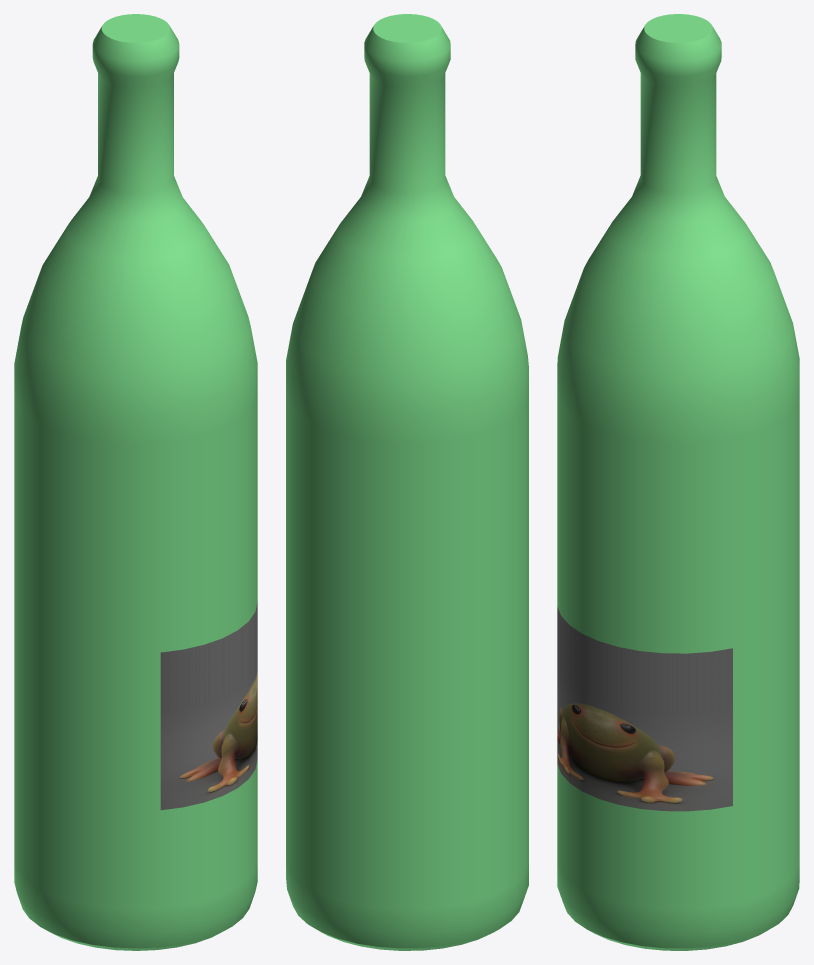
File: wine.gltf
The picture shows the model from 3 angles, left to right: view 1: azimuth 30°, elevation 25°; view 2: azimuth 150°, elevation 25°; view 3: azimuth 270°, elevation 25°; orthographic projection.
Parts seen in each view (by area): view 1: Cylinder; view 2: Cylinder; view 3: Cylinder.
Boxes of the visible parts, bbox=[...] form: Cylinder: bbox=[14, 14, 257, 950]; Cylinder: bbox=[286, 14, 528, 950]; Cylinder: bbox=[557, 14, 799, 950].
Size of the model in its own units: 0.7124 by 2.84 by 0.7124.
Materials: 2 (1 with a texture image).
